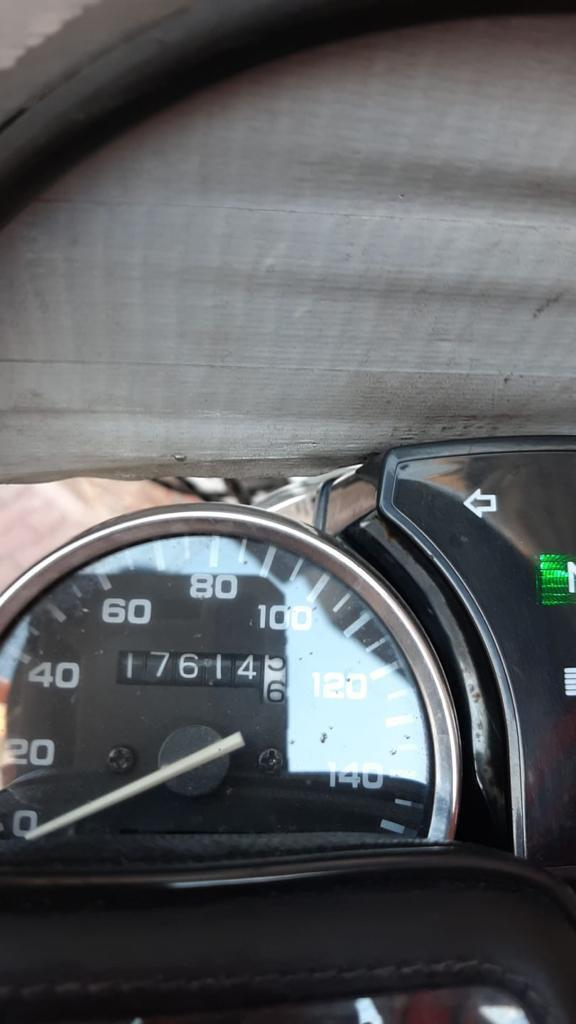1: (209, 650, 226, 681), (122, 650, 137, 680)
4: (235, 651, 258, 680)
5: (266, 652, 287, 673)
6: (177, 651, 200, 679), (265, 679, 286, 704)
7: (148, 649, 171, 677)
odometer: (110, 642, 290, 709)
